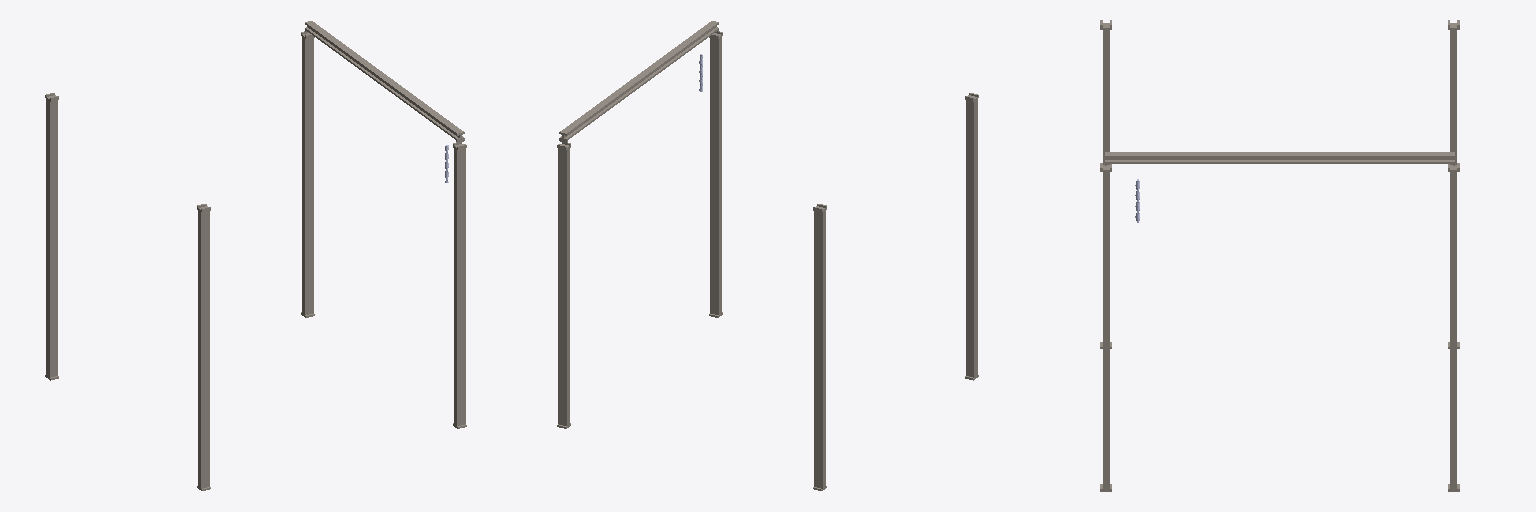
robot.urdf — solidworks2ros_try22:
<?xml version="1.0" encoding="utf-8"?>
<!-- This URDF was automatically created by SolidWorks to URDF Exporter! Originally created by [author] ([email redacted]) 
     Commit Version: 1.6.0-4-g7f85cfe  Build Version: 1.6.7995.38578
     For more information, please see http://wiki.ros.org/sw_urdf_exporter -->
<robot name="solidworks2ros_try22">

  <link name="dummy"> 
  </link>

  <joint name="dummy_joint" type="fixed">
     <parent link="dummy"/>
     <child link="base_link"/>
  </joint>
  
  <link name="base_link">
    <inertial>
      <origin
        xyz="-1.8415 1.8923 1.93881168831169"
        rpy="0 0 0" />
      <mass
        value="1189.83063679221" />
      <inertia
        ixx="1516.60954712238"
        ixy="-1.420061750672E-16"
        ixz="3.73286057732453E-15"
        iyy="1517.59982451556"
        iyz="1.56754172645829E-13"
        izz="2.2081856636322" />
    </inertial>
    <visual>
      <origin
        xyz="0 0 0"
        rpy="0 0 0" />
      <geometry>
        <mesh
          filename="package://solidworks2ros_try22/meshes/base_link.STL" />
      </geometry>
      <material
        name="">
        <color
          rgba="0.650980392156863 0.619607843137255 0.588235294117647 1" />
      </material>
    </visual>
    <collision>
      <origin
        xyz="0 0 0"
        rpy="0 0 0" />
      <geometry>
        <mesh
          filename="package://solidworks2ros_try22/meshes/base_link.STL" />
      </geometry>
    </collision>
  </link>

  <link name="fixed_link1">
    <inertial>
      <origin
        xyz="-1.905 1.8923 -0.0105833333333343"
        rpy="0 0 0" />
      <mass
        value="463.570377970991" />
      <inertia
        ixx="0.770538827320867"
        ixy="8.9619312864146E-16"
        ixz="1.18922393937621E-15"
        iyy="560.96680475803"
        iyz="2.43205703879587E-16"
        izz="561.342728013408" />
    </inertial>
    <visual>
      <origin
        xyz="0 0 0"
        rpy="0 0 0" />
      <geometry>
        <mesh
          filename="package://solidworks2ros_tr22/meshes/fixed_link1.STL" />
      </geometry>
      <material
        name="">
        <color
          rgba="0.650980392156863 0.619607843137255 0.588235294117647 1" />
      </material>
    </visual>
    <collision>
      <origin
        xyz="0 0 0"
        rpy="0 0 0" />
      <geometry>
        <mesh
          filename="package://solidworks2ros_try22/meshes/fixed_link1.STL" />
      </geometry>
    </collision>
  </link>

  <joint name="fixed_joint1"
    type="fixed">
    <origin
      xyz="0.0635 0 3.9116"
      rpy="0 0 0" />
    <parent
      link="base_link" />
    <child
      link="fixed_link1" />
    <axis
      xyz="0 0 0" />
  </joint>

  <link name="link_1">
    <inertial>
      <origin
        xyz="-0.0508000000000002 1.8923 0.0758631299734733"
        rpy="0 0 0" />
      <mass
        value="19.418448055007" />
      <inertia
        ixx="237.587906133625"
        ixy="5.18188025274158E-16"
        ixz="1.63164364285503E-17"
        iyy="0.380996606082199"
        iyz="6.20919831193846E-14"
        izz="237.478681964248" />
    </inertial>
    <visual>
      <origin
        xyz="0 0 0"
        rpy="0 0 0" />
      <geometry>
        <mesh
          filename="package://solidworks2ros_try22/meshes/link_1.STL" />
      </geometry>
      <material
        name="">
        <color
          rgba="0.650980392156863 0.619607843137255 0.588235294117647 1" />
      </material>
    </visual>
    <collision>
      <origin
        xyz="0 0 0"
        rpy="0 0 0" />
      <geometry>
        <mesh
          filename="package://solidworks2ros_try22/meshes/link_1.STL" />
      </geometry>
    </collision>
  </link>

  <joint name="joint_1"
    type="prismatic">
    <origin
      xyz="0 0 0"
      rpy="0 0 0" />
    <parent
      link="fixed_link1" />
    <child
      link="link_1" />
    <axis
      xyz="-1 0 0" />
    <limit
      lower="0"
      upper="3.5"
      effort="100"
      velocity="0.2" />
  </joint>

  <link name="link_2">
    <inertial>
      <origin
        xyz="0 0 0.0356340705130371"
        rpy="0 0 0" />
      <mass
        value="19.9990194153574" />
      <inertia
        ixx="6.11375565768231"
        ixy="-1.15919177324351E-16"
        ixz="-2.72765263759081E-15"
        iyy="12.7901278387754"
        iyz="-1.01498448941922E-16"
        izz="7.21589311049448" />
    </inertial>
    <visual>
      <origin
        xyz="0 0 0"
        rpy="0 0 0" />
      <geometry>
        <mesh
          filename="package://solidworks2ros_try22/meshes/link_2.STL" />
      </geometry>
      <material
        name="">
        <color
          rgba="0.650980392156863 0.619607843137255 0.588235294117647 1" />
      </material>
    </visual>
    <collision>
      <origin
        xyz="0 0 0"
        rpy="0 0 0" />
      <geometry>
        <mesh
          filename="package://solidworks2ros_try22/meshes/link_2.STL" />
      </geometry>
    </collision>
  </link>

  <joint name="joint_2"
    type="prismatic">
    <origin
      xyz="-0.0508 0.2286 -0.1143"
      rpy="0 0 0" />
    <parent
      link="link_1" />
    <child
      link="link_2" />
    <axis
      xyz="0 1 0" />
    <limit
      lower="0"
      upper="3.5"
      effort="100"
      velocity="0.2" />
  </joint>

  <link name="link_3">
    <inertial>
      <origin
        xyz="-1.5265814390375E-08 -0.00163577376814383 0.00163567354805672"
        rpy="0 0 0" />
      <mass
        value="9.05475783072939" />
      <inertia
        ixx="0.112496283294502"
        ixy="-3.42930100367884E-06"
        ixz="-3.41309869074687E-06"
        iyy="0.0861436896162287"
        iyz="-0.00122547207769907"
        izz="0.0861439430786658" />
    </inertial>
    <visual>
      <origin
        xyz="0 0 0"
        rpy="0 0 0" />
      <geometry>
        <mesh
          filename="package://solidworks2ros_try22/meshes/link_3.STL" />
      </geometry>
      <material
        name="">
        <color
          rgba="0.792156862745098 0.819607843137255 0.933333333333333 1" />
      </material>
    </visual>
    <collision>
      <origin
        xyz="0 0 0"
        rpy="0 0 0" />
      <geometry>
        <mesh
          filename="package://solidworks2ros_try22/meshes/link_3.STL" />
      </geometry>
    </collision>
  </link>

  <joint name="joint_3"
    type="revolute">
    <origin
      xyz="0 0 -0.0762"
      rpy="0 0 0" />
    <parent
      link="link_2" />
    <child
      link="link_3" />
    <axis
      xyz="1 0 0" />
    <limit
      lower="0"
      upper="100"
      effort="100"
      velocity="0.2" />
  </joint>

  <!-- Rope started- rope 1 -->
  <link name="link_4">
    <inertial>
      <origin
        xyz="-1.50990331349021E-14 -1.79856129989275E-14 -0.254000177901664"
        rpy="0 0 0" />
      <mass
        value="0.570788909720224" />
      <inertia
        ixx="0.0123412356660734"
        ixy="8.63968603247427E-09"
        ixz="5.94410662360116E-18"
        iyy="0.0123412022009673"
        iyz="2.06563437257844E-18"
        izz="0.000129968031935081" />
    </inertial>
    <visual>
      <origin
        xyz="0 0 0"
        rpy="0 0 0" />
      <geometry>
        <mesh
          filename="package://solidworks2ros_try22/meshes/link_4.STL" />
      </geometry>
      <material
        name="">
        <color
          rgba="0.792156862745098 0.819607843137255 0.933333333333333 1" />
      </material>
    </visual>
    <collision>
      <origin
        xyz="0 0 0"
        rpy="0 0 0" />
      <geometry>
        <mesh
          filename="package://solidworks2ros_try22/meshes/link_4.STL" />
      </geometry>
    </collision>
  </link>

  <joint name="joint_4"
    type="prismatic">
    <origin
      xyz="0 0.1143 -0.0762"
      rpy="0 0 0" />
    <parent
      link="link_2" />
    <child
      link="link_4" />
    <axis
      xyz="0 0 -1" />
    <limit
      lower="0"
      upper="20"
      effort="100"
      velocity="0.2" />
  </joint>

  <!-- Rope 2 -->
  <link name="link_5">
    <inertial>
      <origin
        xyz="-1.50990331349021E-14 -1.79856129989275E-14 -0.254000177901664"
        rpy="0 0 0" />
      <mass
        value="0.570788909720224" />
      <inertia
        ixx="0.0123412356660734"
        ixy="8.63968603247427E-09"
        ixz="5.94410662360116E-18"
        iyy="0.0123412022009673"
        iyz="2.06563437257844E-18"
        izz="0.000129968031935081" />
    </inertial>
    <visual>
      <origin
        xyz="0 0 0"
        rpy="0 0 0" />
      <geometry>
        <mesh
          filename="package://solidworks2ros_try22/meshes/link_4.STL" />
      </geometry>
      <material
        name="">
        <color
          rgba="0.792156862745098 0.819607843137255 0.933333333333333 1" />
      </material>
    </visual>
    <collision>
      <origin
        xyz="0 0 0"
        rpy="0 0 0" />
      <geometry>
        <mesh
          filename="package://solidworks2ros_try22/meshes/link_4.STL" />
      </geometry>
    </collision>
  </link>

  <joint name="joint_5"
    type="prismatic">
    <origin
      xyz="0 0.1143 -0.0762"
      rpy="0 0 0" />
    <parent
      link="link_2" />
    <child
      link="link_5" />
    <axis
      xyz="0 0 -1" />
    <limit
      lower="0"
      upper="20"
      effort="100"
      velocity="0.2" />
  </joint>

    <!-- Rope 3 -->
  <link name="link_6">
    <inertial>
      <origin
        xyz="-1.50990331349021E-14 -1.79856129989275E-14 -0.254000177901664"
        rpy="0 0 0" />
      <mass
        value="0.570788909720224" />
      <inertia
        ixx="0.0123412356660734"
        ixy="8.63968603247427E-09"
        ixz="5.94410662360116E-18"
        iyy="0.0123412022009673"
        iyz="2.06563437257844E-18"
        izz="0.000129968031935081" />
    </inertial>
    <visual>
      <origin
        xyz="0 0 0"
        rpy="0 0 0" />
      <geometry>
        <mesh
          filename="package://solidworks2ros_try22/meshes/link_4.STL" />
      </geometry>
      <material
        name="">
        <color
          rgba="0.792156862745098 0.819607843137255 0.933333333333333 1" />
      </material>
    </visual>
    <collision>
      <origin
        xyz="0 0 0"
        rpy="0 0 0" />
      <geometry>
        <mesh
          filename="package://solidworks2ros_try22/meshes/link_4.STL" />
      </geometry>
    </collision>
  </link>

  <joint name="joint_6"
    type="prismatic">
    <origin
      xyz="0 0.1143 -0.0762"
      rpy="0 0 0" />
    <parent
      link="link_2" />
    <child
      link="link_6" />
    <axis
      xyz="0 0 -1" />
    <limit
      lower="0"
      upper="20"
      effort="100"
      velocity="0.2" />
  </joint>

  <!-- Rope 4 -->
  <link name="link_7">
    <inertial>
      <origin
        xyz="-1.50990331349021E-14 -1.79856129989275E-14 -0.254000177901664"
        rpy="0 0 0" />
      <mass
        value="0.570788909720224" />
      <inertia
        ixx="0.0123412356660734"
        ixy="8.63968603247427E-09"
        ixz="5.94410662360116E-18"
        iyy="0.0123412022009673"
        iyz="2.06563437257844E-18"
        izz="0.000129968031935081" />
    </inertial>
    <visual>
      <origin
        xyz="0 0 0"
        rpy="0 0 0" />
      <geometry>
        <mesh
          filename="package://solidworks2ros_try22/meshes/link_4.STL" />
      </geometry>
      <material
        name="">
        <color
          rgba="0.792156862745098 0.819607843137255 0.933333333333333 1" />
      </material>
    </visual>
    <collision>
      <origin
        xyz="0 0 0"
        rpy="0 0 0" />
      <geometry>
        <mesh
          filename="package://solidworks2ros_try22/meshes/link_4.STL" />
      </geometry>
    </collision>
  </link>

  <joint name="joint_7"
    type="prismatic">
    <origin
      xyz="0 0.1143 -0.0762"
      rpy="0 0 0" />
    <parent
      link="link_2" />
    <child
      link="link_7" />
    <axis
      xyz="0 0 -1" />
    <limit
      lower="0"
      upper="20"
      effort="100"
      velocity="0.2" />
  </joint>

    <!-- Rope 5 -->
  <link name="link_8">
    <inertial>
      <origin
        xyz="-1.50990331349021E-14 -1.79856129989275E-14 -0.254000177901664"
        rpy="0 0 0" />
      <mass
        value="0.570788909720224" />
      <inertia
        ixx="0.0123412356660734"
        ixy="8.63968603247427E-09"
        ixz="5.94410662360116E-18"
        iyy="0.0123412022009673"
        iyz="2.06563437257844E-18"
        izz="0.000129968031935081" />
    </inertial>
    <visual>
      <origin
        xyz="0 0 0"
        rpy="0 0 0" />
      <geometry>
        <mesh
          filename="package://solidworks2ros_try22/meshes/link_4.STL" />
      </geometry>
      <material
        name="">
        <color
          rgba="0.792156862745098 0.819607843137255 0.933333333333333 1" />
      </material>
    </visual>
    <collision>
      <origin
        xyz="0 0 0"
        rpy="0 0 0" />
      <geometry>
        <mesh
          filename="package://solidworks2ros_try22/meshes/link_4.STL" />
      </geometry>
    </collision>
  </link>

  <joint name="joint_8"
    type="prismatic">
    <origin
      xyz="0 0.1143 -0.0762"
      rpy="0 0 0" />
    <parent
      link="link_2" />
    <child
      link="link_8" />
    <axis
      xyz="0 0 -1" />
    <limit
      lower="0"
      upper="20"
      effort="100"
      velocity="0.2" />
  </joint>

  <!-- Rope 6 -->
  <link name="link_9">
    <inertial>
      <origin
        xyz="-1.50990331349021E-14 -1.79856129989275E-14 -0.254000177901664"
        rpy="0 0 0" />
      <mass
        value="0.570788909720224" />
      <inertia
        ixx="0.0123412356660734"
        ixy="8.63968603247427E-09"
        ixz="5.94410662360116E-18"
        iyy="0.0123412022009673"
        iyz="2.06563437257844E-18"
        izz="0.000129968031935081" />
    </inertial>
    <visual>
      <origin
        xyz="0 0 0"
        rpy="0 0 0" />
      <geometry>
        <mesh
          filename="package://solidworks2ros_try22/meshes/link_4.STL" />
      </geometry>
      <material
        name="">
        <color
          rgba="0.792156862745098 0.819607843137255 0.933333333333333 1" />
      </material>
    </visual>
    <collision>
      <origin
        xyz="0 0 0"
        rpy="0 0 0" />
      <geometry>
        <mesh
          filename="package://solidworks2ros_try22/meshes/link_4.STL" />
      </geometry>
    </collision>
  </link>

  <joint name="joint_9"
    type="prismatic">
    <origin
      xyz="0 0.1143 -0.0762"
      rpy="0 0 0" />
    <parent
      link="link_2" />
    <child
      link="link_9" />
    <axis
      xyz="0 0 -1" />
    <limit
      lower="0"
      upper="20"
      effort="100"
      velocity="0.2" />
  </joint>

  <!-- Rope 7 -->
  <link name="link_10">
    <inertial>
      <origin
        xyz="-1.50990331349021E-14 -1.79856129989275E-14 -0.254000177901664"
        rpy="0 0 0" />
      <mass
        value="0.570788909720224" />
      <inertia
        ixx="0.0123412356660734"
        ixy="8.63968603247427E-09"
        ixz="5.94410662360116E-18"
        iyy="0.0123412022009673"
        iyz="2.06563437257844E-18"
        izz="0.000129968031935081" />
    </inertial>
    <visual>
      <origin
        xyz="0 0 0"
        rpy="0 0 0" />
      <geometry>
        <mesh
          filename="package://solidworks2ros_try22/meshes/link_4.STL" />
      </geometry>
      <material
        name="">
        <color
          rgba="0.792156862745098 0.819607843137255 0.933333333333333 1" />
      </material>
    </visual>
    <collision>
      <origin
        xyz="0 0 0"
        rpy="0 0 0" />
      <geometry>
        <mesh
          filename="package://solidworks2ros_try22/meshes/link_4.STL" />
      </geometry>
    </collision>
  </link>

  <joint name="joint_10"
    type="prismatic">
    <origin
      xyz="0 0.1143 -0.0762"
      rpy="0 0 0" />
    <parent
      link="link_2" />
    <child
      link="link_10" />
    <axis
      xyz="0 0 -1" />
    <limit
      lower="0"
      upper="20"
      effort="100"
      velocity="0.2" />
  </joint>

  <!-- Rope 8 -->
  <link name="link_11">
    <inertial>
      <origin
        xyz="-1.50990331349021E-14 -1.79856129989275E-14 -0.254000177901664"
        rpy="0 0 0" />
      <mass
        value="0.570788909720224" />
      <inertia
        ixx="0.0123412356660734"
        ixy="8.63968603247427E-09"
        ixz="5.94410662360116E-18"
        iyy="0.0123412022009673"
        iyz="2.06563437257844E-18"
        izz="0.000129968031935081" />
    </inertial>
    <visual>
      <origin
        xyz="0 0 0"
        rpy="0 0 0" />
      <geometry>
        <mesh
          filename="package://solidworks2ros_try22/meshes/link_4.STL" />
      </geometry>
      <material
        name="">
        <color
          rgba="0.792156862745098 0.819607843137255 0.933333333333333 1" />
      </material>
    </visual>
    <collision>
      <origin
        xyz="0 0 0"
        rpy="0 0 0" />
      <geometry>
        <mesh
          filename="package://solidworks2ros_try22/meshes/link_4.STL" />
      </geometry>
    </collision>
  </link>

  <joint name="joint_11"
    type="prismatic">
    <origin
      xyz="0 0.1143 -0.0762"
      rpy="0 0 0" />
    <parent
      link="link_2" />
    <child
      link="link_11" />
    <axis
      xyz="0 0 -1" />
    <limit
      lower="0"
      upper="20"
      effort="100"
      velocity="0.2" />
  </joint>

  <!-- Gazebo position controller -->
  <transmission name ="trans_1">
    <type>transmission_interface/SimpleTransmission</type>
    <joint name="joint_1">
        <hardwareInterface>hardware_interface/PositionJointInterface</hardwareInterface>
    </joint>
    <actuator name="motor_1">
        <hardwareInterface>hardware_interface/PositionJointInterface</hardwareInterface>
        <mechanicalReduction>1</mechanicalReduction>
    </actuator>
  </transmission>

  <transmission name ="trans_2">
    <type>transmission_interface/SimpleTransmission</type>
    <joint name="joint_2">
        <hardwareInterface>hardware_interface/PositionJointInterface</hardwareInterface>
    </joint>
    <actuator name="motor_2">
        <hardwareInterface>hardware_interface/PositionJointInterface</hardwareInterface>
        <mechanicalReduction>1</mechanicalReduction>
    </actuator>
  </transmission>

  <transmission name ="trans_3">
    <type>transmission_interface/SimpleTransmission</type>
    <joint name="joint_3">
        <hardwareInterface>hardware_interface/PositionJointInterface</hardwareInterface>
    </joint>
    <actuator name="motor_3">
        <hardwareInterface>hardware_interface/PositionJointInterface</hardwareInterface>
        <mechanicalReduction>1</mechanicalReduction>
    </actuator>
  </transmission>

  <transmission name ="trans_4">
    <type>transmission_interface/SimpleTransmission</type>
    <joint name="joint_4">
        <hardwareInterface>hardware_interface/PositionJointInterface</hardwareInterface>
    </joint>
    <actuator name="motor_4">
        <hardwareInterface>hardware_interface/PositionJointInterface</hardwareInterface>
        <mechanicalReduction>1</mechanicalReduction>
    </actuator>
  </transmission>

  <transmission name ="trans_5">
    <type>transmission_interface/SimpleTransmission</type>
    <joint name="joint_5">
        <hardwareInterface>hardware_interface/PositionJointInterface</hardwareInterface>
    </joint>
    <actuator name="motor_5">
        <hardwareInterface>hardware_interface/PositionJointInterface</hardwareInterface>
        <mechanicalReduction>1</mechanicalReduction>
    </actuator>
  </transmission>

  <transmission name ="trans_6">
    <type>transmission_interface/SimpleTransmission</type>
    <joint name="joint_6">
        <hardwareInterface>hardware_interface/PositionJointInterface</hardwareInterface>
    </joint>
    <actuator name="motor_6">
        <hardwareInterface>hardware_interface/PositionJointInterface</hardwareInterface>
        <mechanicalReduction>1</mechanicalReduction>
    </actuator>
  </transmission>

  <transmission name ="trans_7">
    <type>transmission_interface/SimpleTransmission</type>
    <joint name="joint_7">
        <hardwareInterface>hardware_interface/PositionJointInterface</hardwareInterface>
    </joint>
    <actuator name="motor_7">
        <hardwareInterface>hardware_interface/PositionJointInterface</hardwareInterface>
        <mechanicalReduction>1</mechanicalReduction>
    </actuator>
  </transmission>

  <transmission name ="trans_8">
    <type>transmission_interface/SimpleTransmission</type>
    <joint name="joint_8">
        <hardwareInterface>hardware_interface/PositionJointInterface</hardwareInterface>
    </joint>
    <actuator name="motor_8">
        <hardwareInterface>hardware_interface/PositionJointInterface</hardwareInterface>
        <mechanicalReduction>1</mechanicalReduction>
    </actuator>
  </transmission>

  <transmission name ="trans_9">
    <type>transmission_interface/SimpleTransmission</type>
    <joint name="joint_9">
        <hardwareInterface>hardware_interface/PositionJointInterface</hardwareInterface>
    </joint>
    <actuator name="motor_9">
        <hardwareInterface>hardware_interface/PositionJointInterface</hardwareInterface>
        <mechanicalReduction>1</mechanicalReduction>
    </actuator>
  </transmission>

  <transmission name ="trans_10">
    <type>transmission_interface/SimpleTransmission</type>
    <joint name="joint_10">
        <hardwareInterface>hardware_interface/PositionJointInterface</hardwareInterface>
    </joint>
    <actuator name="motor_10">
        <hardwareInterface>hardware_interface/PositionJointInterface</hardwareInterface>
        <mechanicalReduction>1</mechanicalReduction>
    </actuator>
  </transmission>

  <transmission name ="trans_11">
    <type>transmission_interface/SimpleTransmission</type>
    <joint name="joint_11">
        <hardwareInterface>hardware_interface/PositionJointInterface</hardwareInterface>
    </joint>
    <actuator name="motor_11">
        <hardwareInterface>hardware_interface/PositionJointInterface</hardwareInterface>
        <mechanicalReduction>1</mechanicalReduction>
    </actuator>
  </transmission>

  <!-- Gazebo plugin for controlling the rope -->
  <gazebo>
    <plugin name="ros_control" filename="libgazebo_ros_control.so">
    </plugin>
  </gazebo>

</robot>

--- Render facts (derived) ---
Views: 3 orthographic renders of the robot side by side, from view 1: azimuth 30°, elevation 25°; view 2: azimuth 150°, elevation 25°; view 3: azimuth 270°, elevation 25°.
Model solidworks2ros_try22 with 14 links and 13 joints (1 revolute, 10 prismatic, 2 fixed), rooted at dummy, posed every joint at zero.
Visible links, largest first — view 1: base_link, link_1; view 2: base_link, link_1; view 3: base_link, link_1.
Link boxes in pixels (bbox=[...]): base_link: bbox=[45, 31, 466, 490]; link_1: bbox=[305, 21, 464, 142]; base_link: bbox=[557, 31, 978, 490]; link_1: bbox=[559, 21, 718, 142]; base_link: bbox=[1100, 20, 1459, 491]; link_1: bbox=[1105, 152, 1454, 165].
Bounding box of the posed robot: 3.81 × 3.91 × 4.04 m (x, y, z).
10 mesh visuals loaded from 6 distinct referenced files (3 binary STL); not drawn: 3 (reference not matched to a file when rendering).
